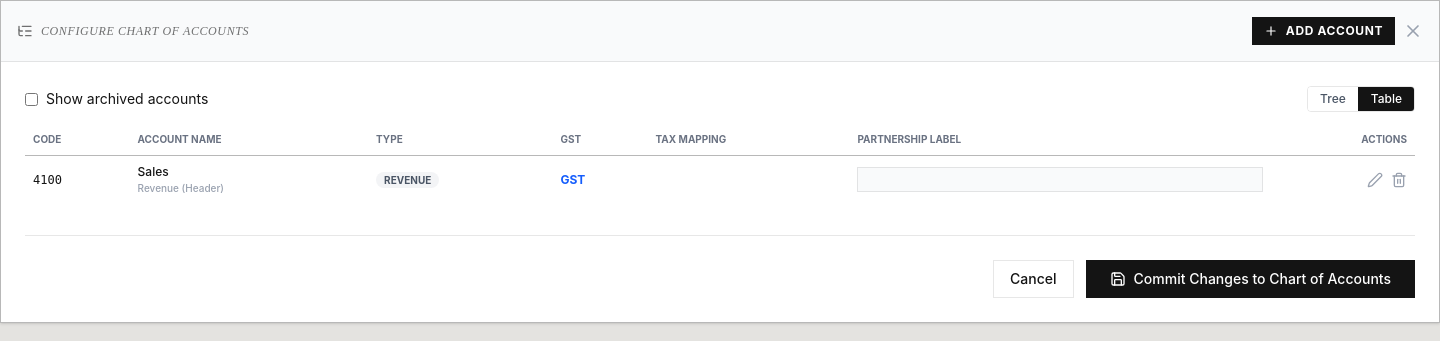
Test: AccountManager › Phase 4 — AccountManager refactor (BOOK-06, BOOK-07) › archived accounts hidden from default view
# Switch to tree to inspect coa-row testids.
Click the button with test id "view-mode-tree": (1333, 99) [1308,87,1358,111]
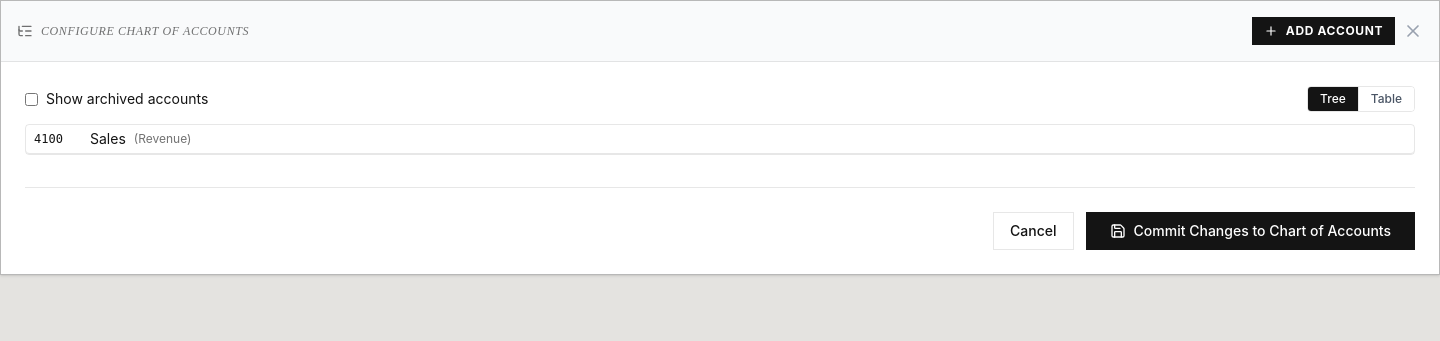
expect the list item with test id "coa-row-4100" is shown: met, box [26,125,1414,154]
